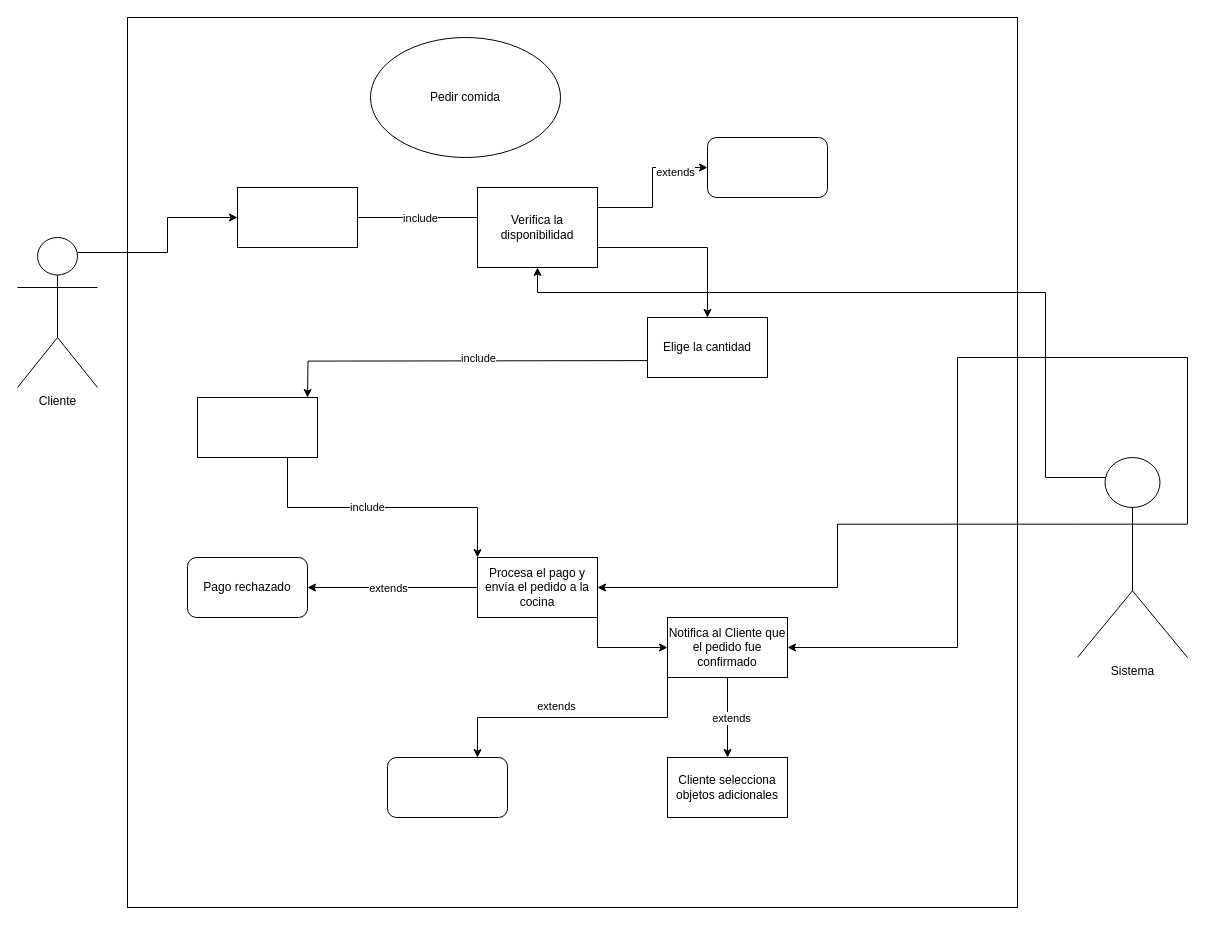
This 1213x925 diagram has some shape labels left out. The shapes that lost their labels are listed below. From the top down, each one's box as (x1, y1, x2, y2) in pixels, then its label:
(706, 136, 828, 198): Plato no disponible
(236, 186, 358, 248): Selecciona los platos deseados
(196, 396, 318, 458): Ingresa el número de habitación y selecciona el método de pago
(386, 756, 508, 818): Cancelar pedido
